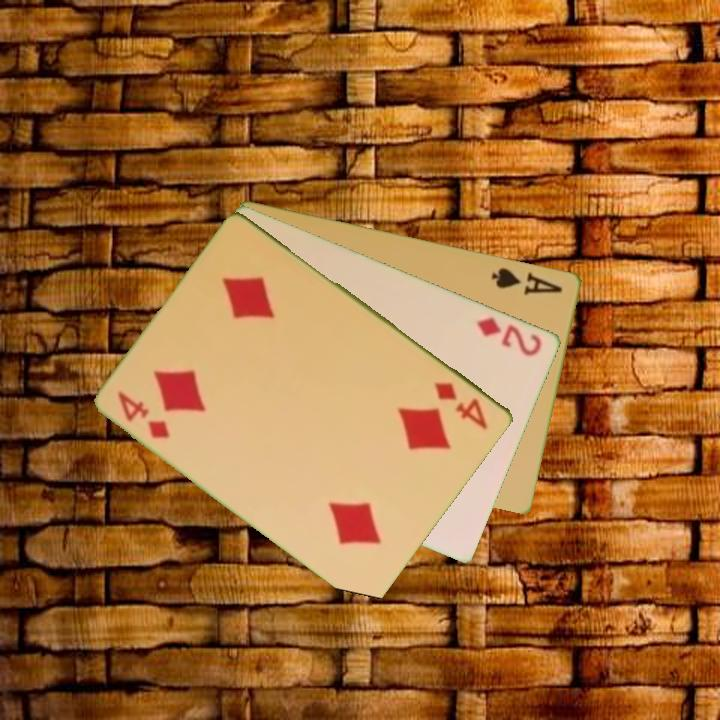2d: (473, 313, 546, 359)
4d: (431, 377, 492, 432), (114, 387, 174, 442)
As: (488, 263, 566, 297)
